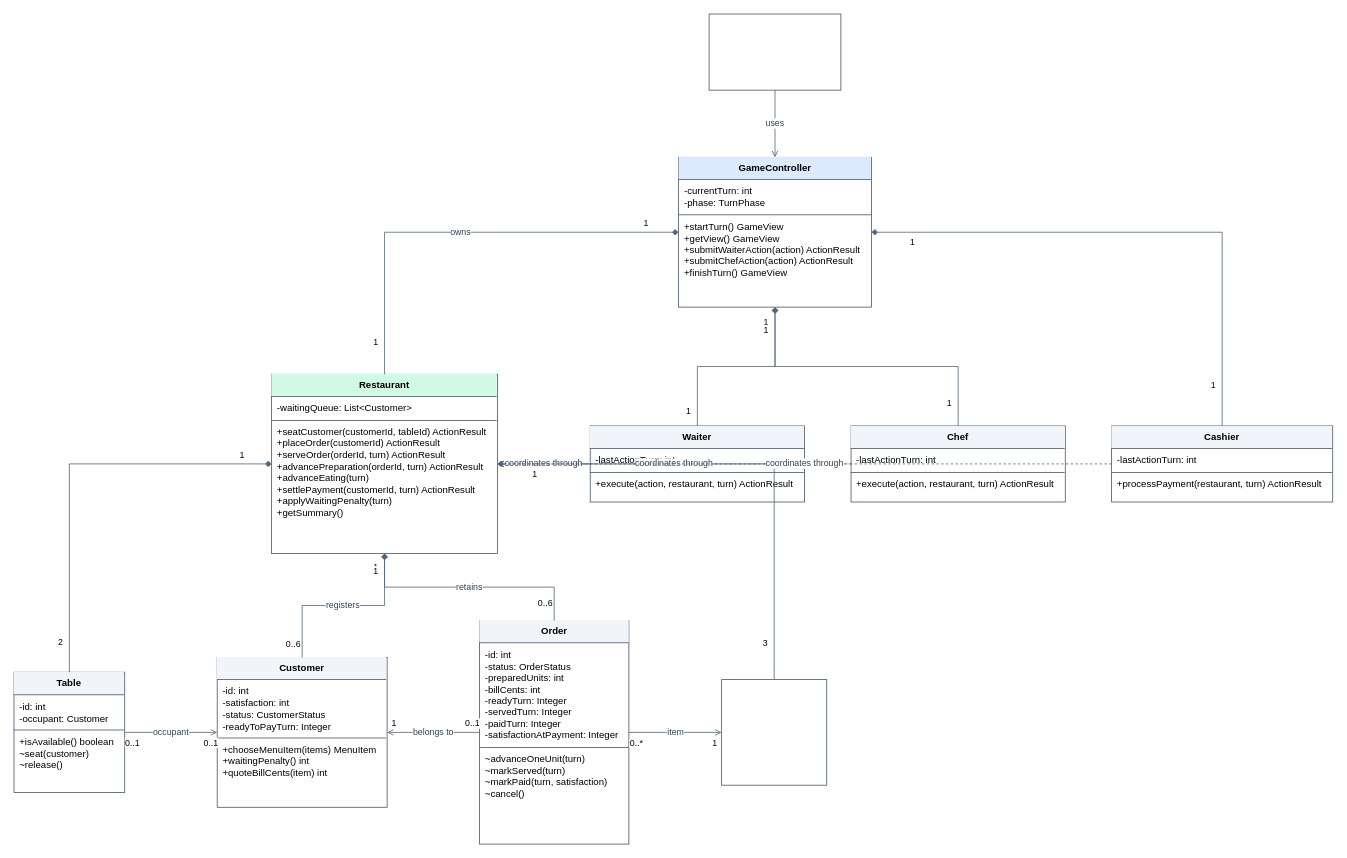
Some shapes in this 1347 by 858 pixel diagram are drawn without their labels. The box of each missing label's shape, as (x1, y1, x2, y2) in pixels:
MenuItem -name: String -priceCents: int -preparationUnits: int: (721, 679, 827, 785)
RestaurantCLI -controller: GameController +run(): (708, 13, 841, 90)
